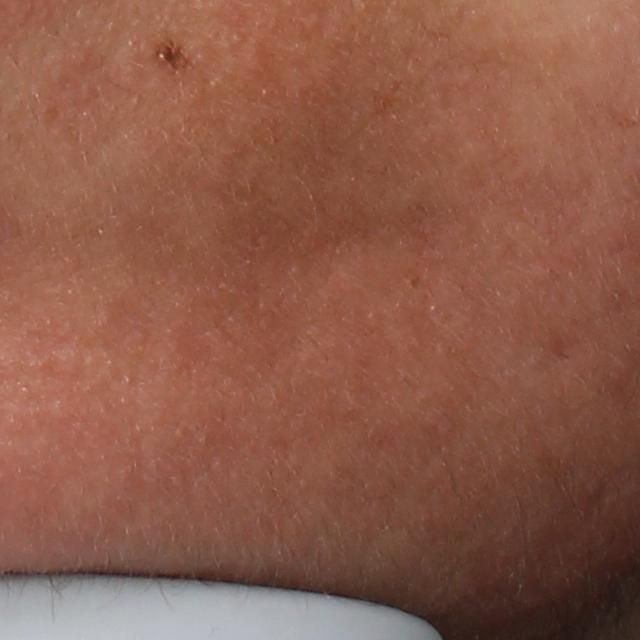nevus: (153, 36, 194, 75)
